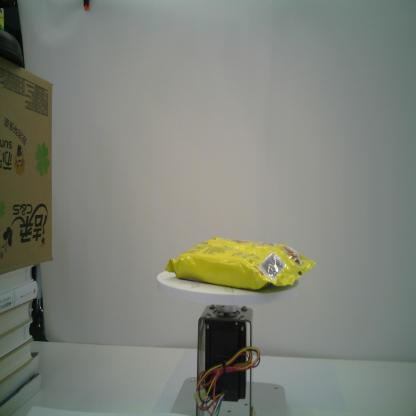Instant Noodles: (165, 236, 316, 292)
